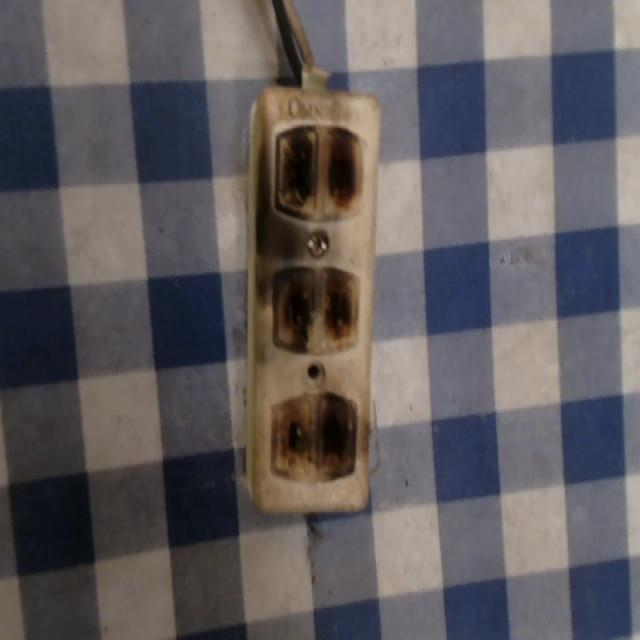-: (270, 119, 366, 221), (267, 388, 358, 485), (271, 262, 361, 354)
